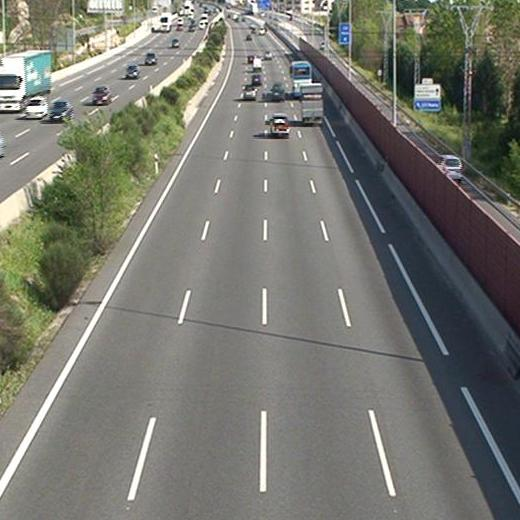bus: (292, 62, 311, 97)
car: (270, 115, 290, 135), (244, 87, 256, 99), (252, 75, 261, 85), (264, 51, 271, 59)
small-truck: (301, 86, 324, 123)
van: (272, 84, 284, 100), (252, 57, 262, 71)
